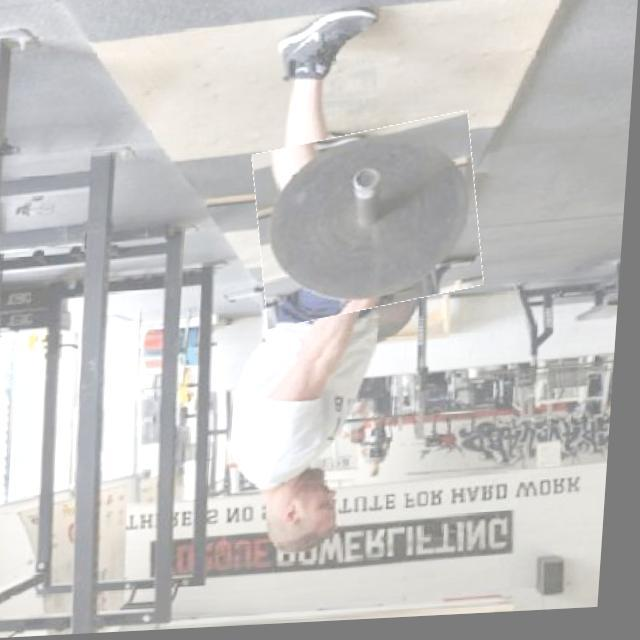barbell: (253, 123, 492, 326)
